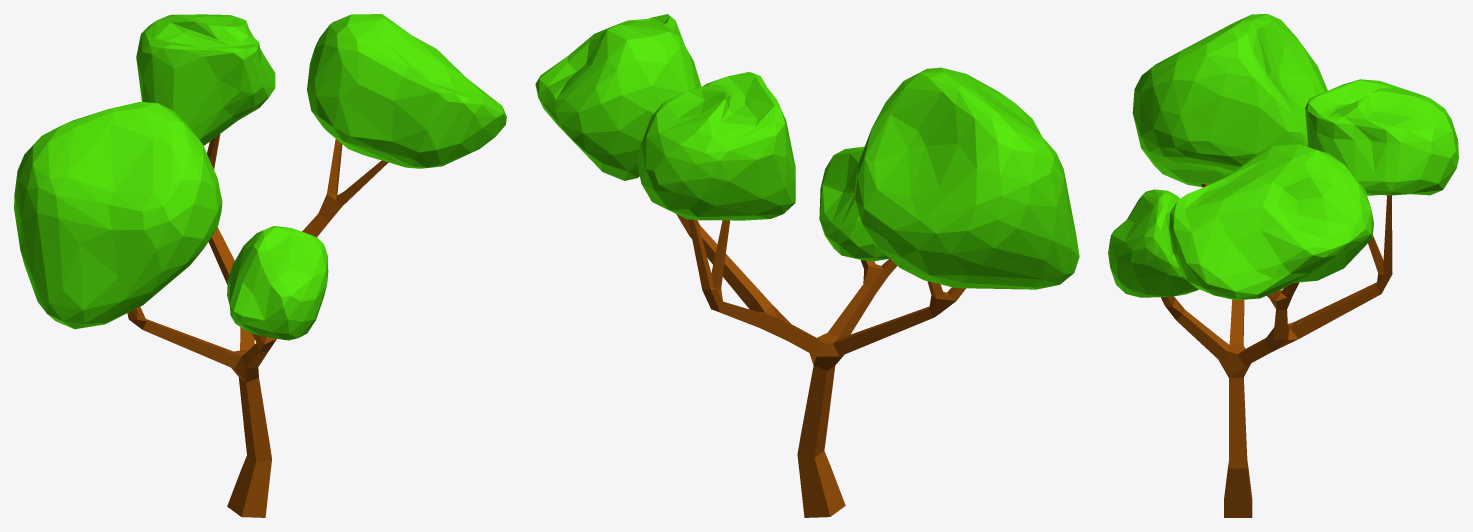
File: tree_PRETEXTURE_000.fbx
3 views of the same model, side by side, from view 1: azimuth 30°, elevation 25°; view 2: azimuth 150°, elevation 25°; view 3: azimuth 270°, elevation 25° (orthographic). The views are drawn at different scales.
Visible parts, largest first — view 1: 棱角球, Cube; view 2: 棱角球, Cube; view 3: 棱角球, Cube.
Part boxes in pixels (box(x1,y1,x2,y2)): 棱角球: box(14, 14, 506, 340); Cube: box(127, 134, 388, 517); 棱角球: box(535, 14, 1079, 289); Cube: box(676, 214, 965, 517); 棱角球: box(1108, 14, 1458, 300); Cube: box(1161, 184, 1392, 517).
Size of the model in its own units: 469 by 417 by 307.
